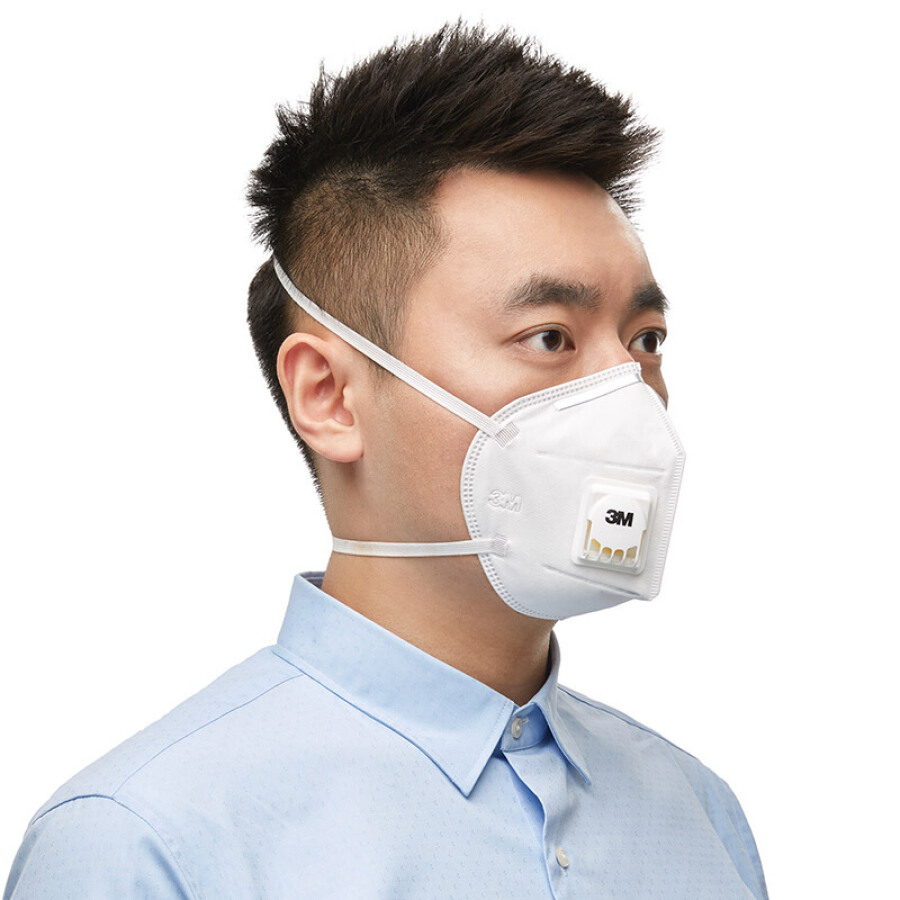3M: (483, 481, 527, 518), (601, 504, 640, 536)
